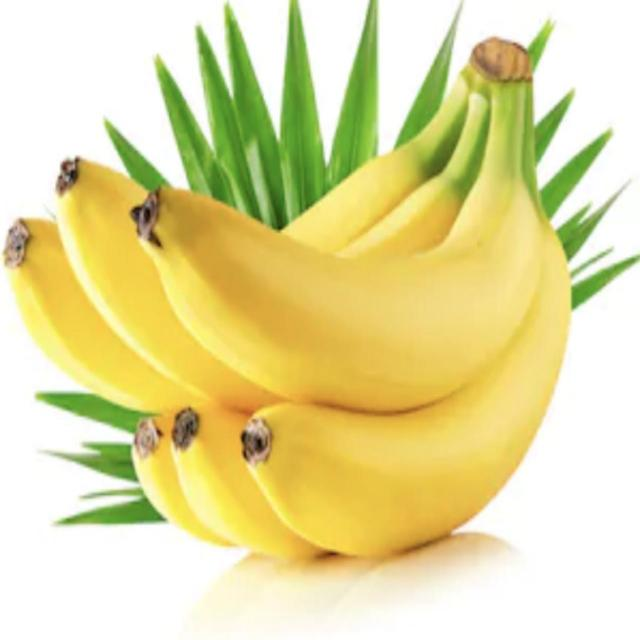banana: (107, 34, 593, 427), (219, 181, 590, 577)
